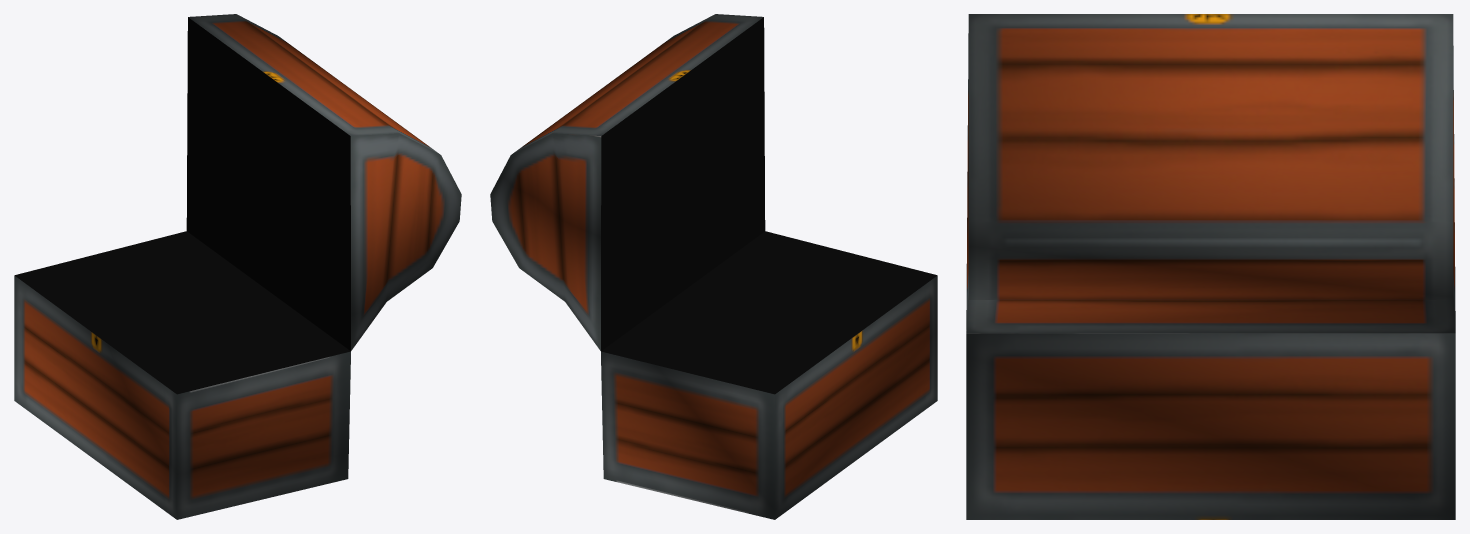
File: cofrenormal_000008.obj
The picture shows the model from 3 angles, left to right: view 1: azimuth 30°, elevation 25°; view 2: azimuth 150°, elevation 25°; view 3: azimuth 270°, elevation 25°; orthographic projection. The views are drawn at different scales.
Parts seen in each view (by area): view 1: cofre; view 2: cofre; view 3: cofre.
Part boxes in pixels (x1,y1,x2,y2): cofre: (14,14,461,519); cofre: (490,14,937,519); cofre: (966,14,1455,519).
Bounding box in the file's own units: 6.33 × 7.26 × 6.34.
